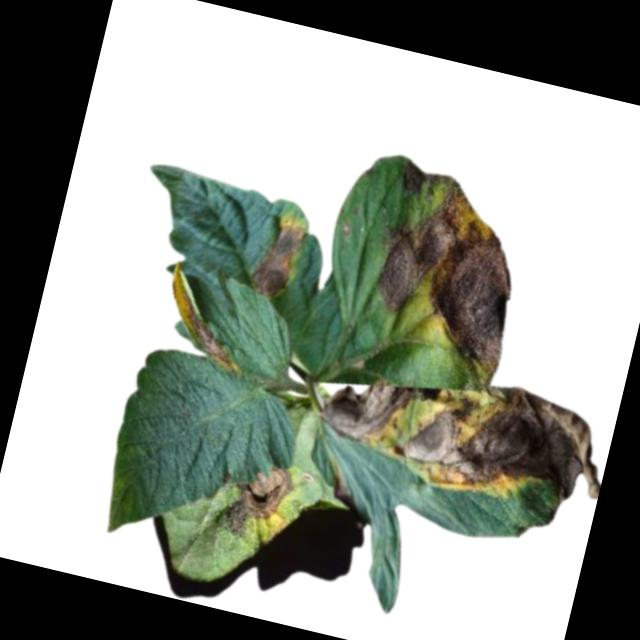Early_blight: (309, 346, 614, 523), (359, 170, 542, 387), (154, 261, 262, 374), (210, 453, 299, 548), (248, 210, 309, 305), (328, 460, 354, 497)
